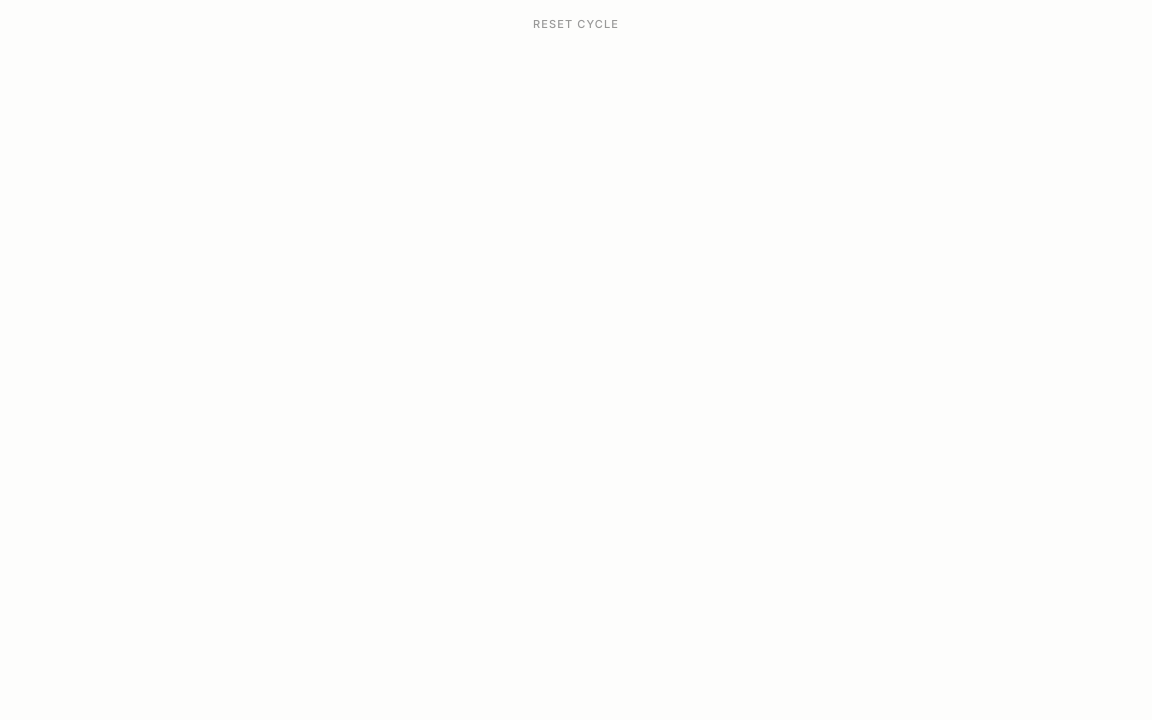
ResetCycleButton › renders when completedSessions > 0 and prompts confirmation dialog
Later steps or results of the test are not shown.
Click the button with aria-label "Reset cycle (starts from Session 1)" at point(576, 24), box [533,16,619,32]
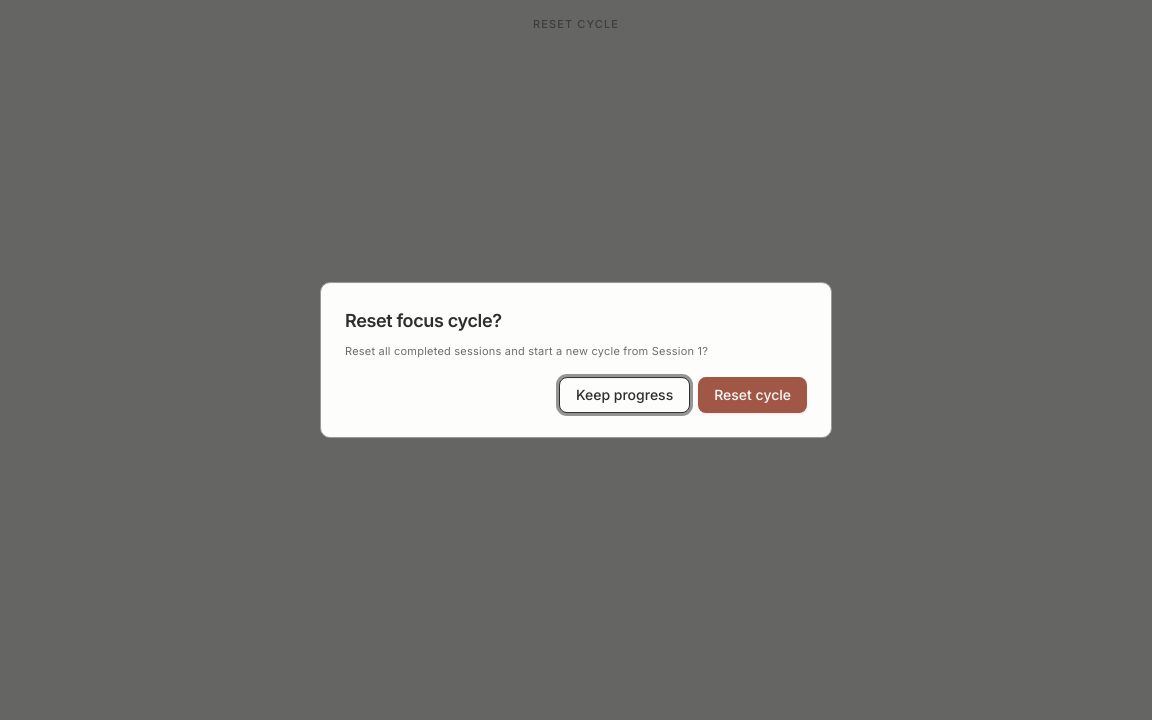
Expected: the heading "Reset focus cycle?" is shown, [345,310,502,331]
